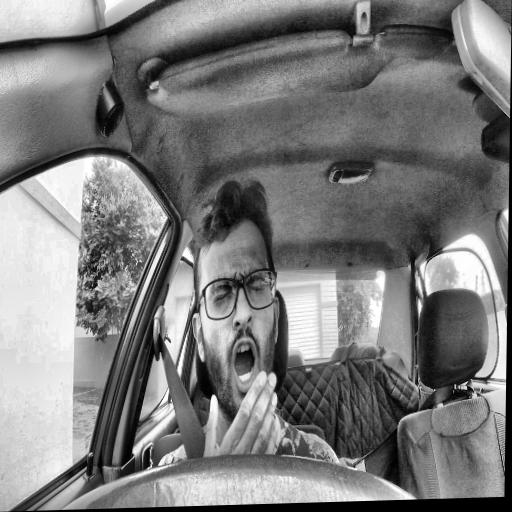drowsy: (190, 178, 282, 429)
